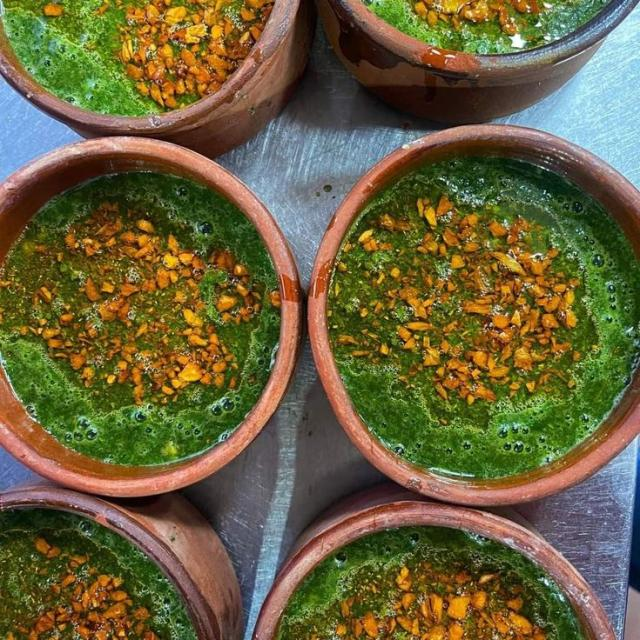Molokhya: (315, 135, 640, 504), (0, 134, 309, 504), (249, 516, 640, 639), (3, 0, 316, 127), (322, 0, 638, 107), (0, 513, 228, 640)
